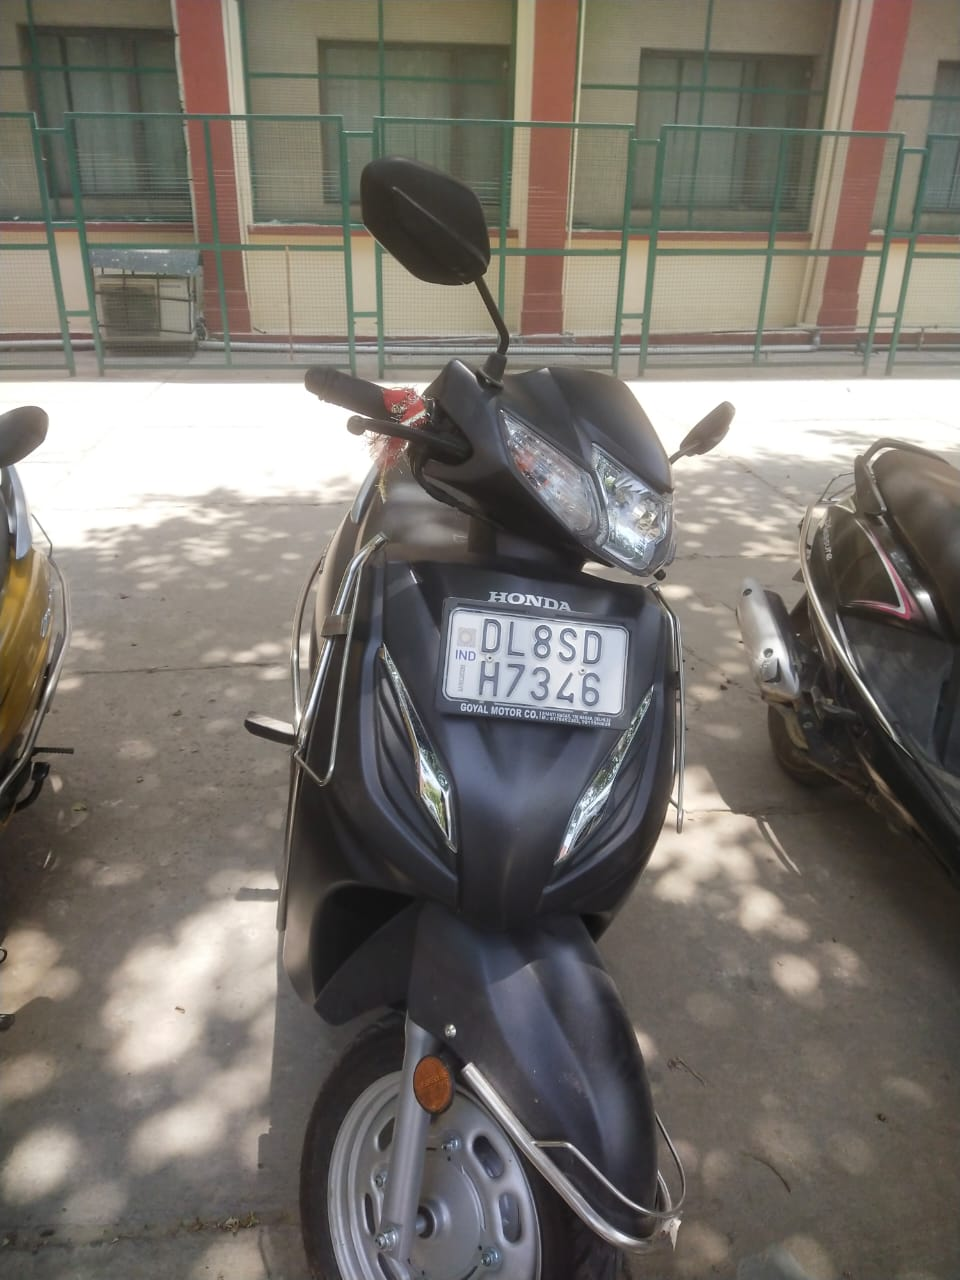license plate: (437, 598, 629, 728)
